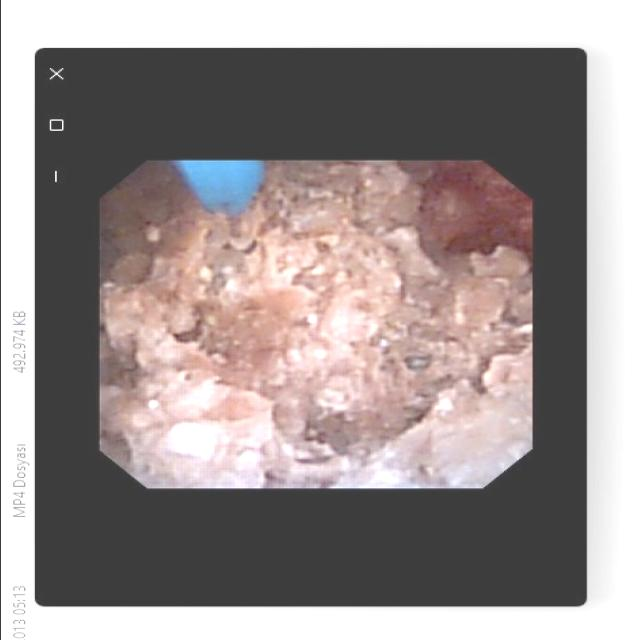fiber: (178, 165, 260, 213)
stone: (106, 169, 521, 484)
